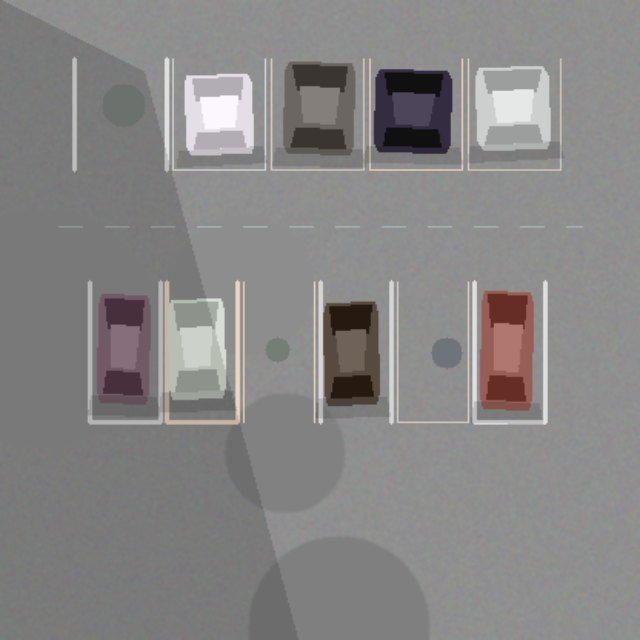space-empty: (74, 58, 166, 169), (243, 282, 314, 422), (397, 282, 468, 422)
space-occupied: (172, 58, 265, 169), (369, 58, 462, 169), (271, 58, 363, 169), (468, 58, 560, 169), (89, 282, 160, 422), (166, 282, 237, 422), (320, 282, 391, 422), (474, 282, 545, 422)
